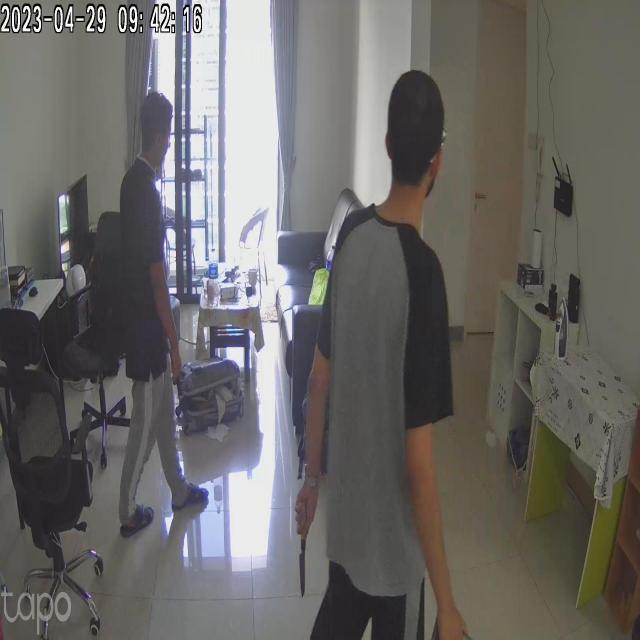Knife: (293, 512, 314, 606)
